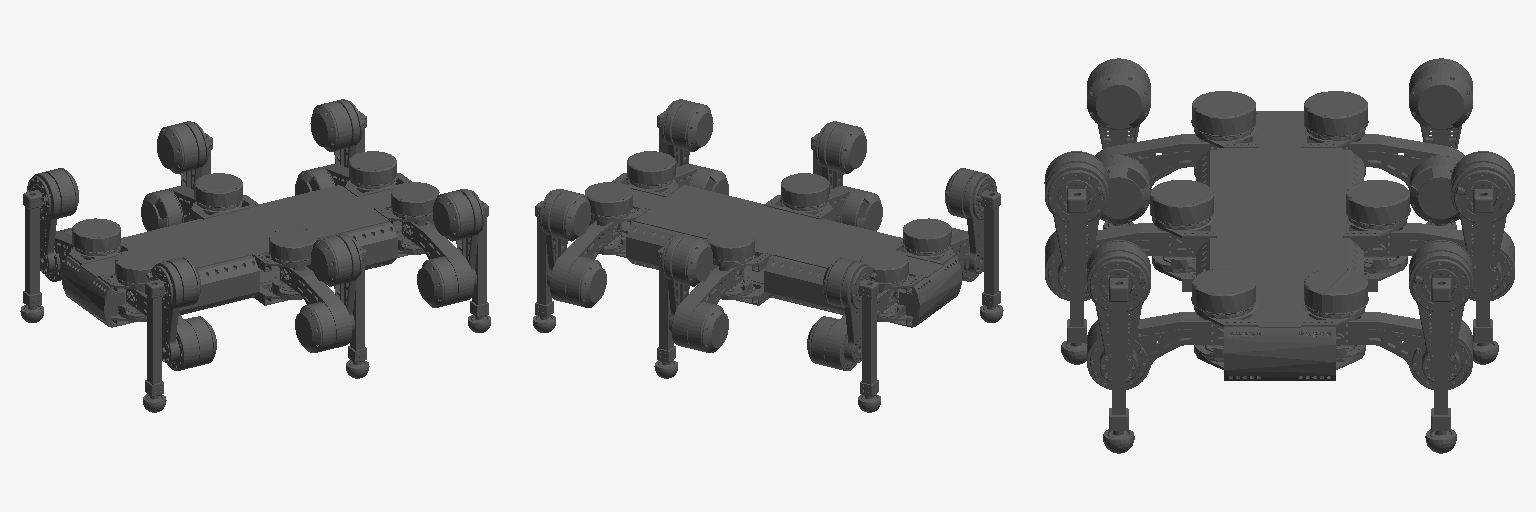
--- Render facts (derived) ---
The picture shows the robot from 3 angles, left to right: view 1: azimuth 30°, elevation 25°; view 2: azimuth 150°, elevation 25°; view 3: azimuth 270°, elevation 25°; orthographic projection.
Model elspider_air with 26 links and 25 joints (18 revolute, 7 fixed), rooted at base, posed all joints at 0.
Links seen in each view (by area): view 1: trunk, RM_HIP, RF_HIP, RF_THIGH, RM_THIGH, RB_THIGH, LB_THIGH, LM_THIGH, LF_THIGH, RB_HIP, RB_SHANK, LB_SHANK (+5 smaller); view 2: trunk, LM_HIP, LF_HIP, LF_THIGH, LM_THIGH, LB_THIGH, RB_THIGH, RM_THIGH, RF_THIGH, LB_HIP, LB_SHANK, RB_SHANK (+5 smaller); view 3: trunk, RB_HIP, LB_HIP, LB_THIGH, RB_THIGH, RF_HIP, LF_HIP, RF_THIGH, LF_THIGH, RM_THIGH, LM_THIGH, LM_SHANK (+5 smaller).
Link boxes in pixels (x1,y1,x2,y2): trunk: [62, 151, 439, 327]; RM_HIP: [280, 266, 351, 352]; RF_HIP: [402, 221, 473, 307]; RF_THIGH: [433, 189, 484, 287]; RM_THIGH: [311, 234, 362, 332]; RB_THIGH: [146, 257, 200, 362]; LB_THIGH: [27, 168, 78, 273]; LM_THIGH: [157, 121, 211, 189]; LF_THIGH: [310, 99, 365, 167]; RB_HIP: [126, 289, 216, 370]; RB_SHANK: [145, 273, 167, 401]; LB_SHANK: [23, 184, 45, 311]; trunk: [585, 151, 962, 327]; LM_HIP: [672, 266, 743, 352]; LF_HIP: [550, 221, 621, 307]; LF_THIGH: [539, 189, 590, 287]; LM_THIGH: [661, 234, 712, 332]; LB_THIGH: [823, 257, 877, 363]; RB_THIGH: [945, 168, 996, 273]; RM_THIGH: [812, 121, 866, 189]; RF_THIGH: [658, 99, 713, 167]; LB_HIP: [807, 289, 897, 370]; LB_SHANK: [856, 273, 878, 401]; RB_SHANK: [978, 184, 1000, 311]; trunk: [1150, 91, 1410, 380]; RB_HIP: [1095, 134, 1242, 223]; LB_HIP: [1317, 134, 1464, 223]; LB_THIGH: [1409, 58, 1472, 148]; RB_THIGH: [1087, 58, 1150, 148]; RF_HIP: [1087, 312, 1223, 389]; LF_HIP: [1336, 312, 1472, 389]; RF_THIGH: [1087, 240, 1150, 382]; LF_THIGH: [1409, 240, 1472, 382]; RM_THIGH: [1044, 151, 1108, 293]; LM_THIGH: [1451, 151, 1515, 293]; LM_SHANK: [1463, 180, 1502, 349].
Bounding box of the posed robot: 0.7539 × 0.6722 × 0.3006 m (x, y, z).
Meshes: 25 distinct files referenced, 25 mesh visuals loaded (25 binary STL).

URDF robot description (elspider_air):
<?xml version="1.0" ?>
<!-- =================================================================================== -->
<!-- |    This document was autogenerated by xacro from robot.xacro                    | -->
<!-- |    EDITING THIS FILE BY HAND IS NOT RECOMMENDED                                 | -->
<!-- =================================================================================== -->
<robot name="elspider_air">
  <!-- root link can not have interia, so add this link and joint -->
  <link name="base">
    <collision>
      <origin rpy="0 0 0" xyz="0 0 0.02"/>
      <geometry>
        <box size="0.76 0.28 0.13"/>
      </geometry>
    </collision>
  </link>
  <joint name="floating_base" type="fixed">
    <origin rpy="0 0 0" xyz="0 0 0"/>
    <parent link="base"/>
    <child link="trunk"/>
  </joint>
  <link name="trunk">
    <inertial>
      <origin rpy="0 0 0" xyz="0.00000732 0.00000000 0.02428745"/>
      <mass value="15.8991"/>
      <inertia ixx="0.0926086" ixy="-1.892e-05" ixz="1.58e-06" iyy="0.47054913" iyz="0.0" izz="0.53896766"/>
    </inertial>
    <visual>
      <origin rpy="0 0 0" xyz="0 0 0"/>
      <geometry>
        <mesh filename="../meshes/BASE.STL"/>
      </geometry>
      <material name="default_material">
        <color rgba="0.4 0.4 0.4 1"/>
      </material>
    </visual>

  </link>


  <link name="RF_HIP">
    <inertial>
      <origin xyz="-0.01146909 -0.12306389 -0.03643601" rpy="0 0 0" />
      <mass value="1.20924153"/>
      <inertia ixx="0.00506259" ixy="-0.00037922" ixz="-0.00012353" iyy="0.00134204" iyz="-0.00101741" izz="0.00448477"/>
    </inertial>
    <visual>
      <origin xyz="0 0 0" rpy="0 0 0" />
      <geometry>
        <mesh filename="../meshes/RF_HIP.STL"/>
      </geometry>
      <material name="default_material">
        <color rgba="0.4 0.4 0.4 1"/>
      </material>
    </visual>
    <collision>
      <origin rpy="0.35 0 0" xyz="0 -0.075 -0.010"/>
      <geometry>
        <box size="0.08 0.20 0.08"/>
      </geometry>
    </collision>
  </link>
  <!-- right mirror == 1, left mirror == -1 -->
  <joint name="RF_HAA" type="revolute">
    <origin rpy="0 -0 0" xyz="0.3 -0.08 0.011"/>
    <parent link="base"/>
    <child link="RF_HIP"/>
    <axis xyz="0 0 1"/>
    <dynamics damping="0" friction="0"/>
    <limit lower="-0.785" upper="0.785" effort="33.5" velocity="21"/>
  </joint>

  <link name="RF_THIGH">
    <inertial>
      <!-- y approximately euqal to 0 -->
      <origin rpy="0 0 0" xyz="0.11424797 -0.00005753  -0.01976803"/>
      <mass value="0.92523512"/>
      <inertia ixx="0.0006569" ixy="1.48e-06" ixz="0.0001226" iyy="0.00209449" iyz="1.58e-06" izz="0.00237655"/>
    </inertial>
    <visual>
      <origin rpy="0 0 0" xyz="0 0 0"/>
      <geometry>
        <mesh filename="../meshes/RF_THIGH.STL"/>
      </geometry>
      <material name="default_material">
        <color rgba="0.4 0.4 0.4 1"/>
      </material>
    </visual>
    <collision>
      <origin rpy="0 0 0" xyz="0.065 0.00 -0.05"/>
      <geometry>
        <box size="0.20 0.08 0.1"/>
      </geometry>
    </collision>
  </link>
  <joint name="RF_HFE" type="revolute">
    <origin xyz="0.0355 -0.14999 -0.045056" rpy="3.1416 -1.5708 0" />
    <parent link="RF_HIP"/>
    <child link="RF_THIGH"/>
    <axis xyz="0 0 1"/>
    <dynamics damping="0" friction="0"/>
    <limit lower="-0.5233" upper="3.14" effort="33.5" velocity="21"/>
  </joint>
  <link name="RF_SHANK">
    <inertial>
      <origin xyz="0.0 -0.07024046 -0.00923673" rpy="0 0 0" />
      <mass value="0.28148664"/>
      <!-- no mirror in ixy, ixz? -->
      <inertia ixx="0.00256638" ixy="0.0" ixz="0.0" iyy="9.216e-05" iyz="-0.00017328" izz="0.00258818"/>
    </inertial>
    <visual>
      <origin rpy="0 0 0" xyz="0 0 0"/>
      <geometry>
        <mesh filename="../meshes/RF_SHANK.STL"/>
      </geometry>
      <material name="default_material">
        <color rgba="0.4 0.4 0.4 1"/>
      </material>
    </visual>
    <collision>
      <origin rpy="0 0 0" xyz="0 -0.116 -0.018"/>
      <geometry>
        <box size="0.04 0.232 0.04"/>
      </geometry>
    </collision>
  </link>

  <joint name="RF_KFE" type="revolute">
    <!--TODO here in r maybe exist problem -->
    <origin xyz="0.13 0 0" rpy="3.1416 0 1.5708" />
    <parent link="RF_THIGH"/>
    <child link="RF_SHANK"/>
    <axis xyz="0 0 1"/>
    <dynamics damping="0" friction="0"/>
    <limit lower="-0.6978" upper="3.925" effort="33.5" velocity="21"/>
  </joint>

  <link name="RF_FOOT">
    <inertial>
      <!-- xyz approximately euqal to 0 -->
      <origin xyz="0.00000000 -0.0070918 0.00000000" rpy="0 0 0" />
      <mass value="0.01901289"/>
      <inertia ixx="3.96e-06" ixy="0.0" ixz="0.0" iyy="5.73e-06" iyz="0.0" izz="3.96e-06"/>
    </inertial>
    <visual>
      <origin rpy="0 0 0" xyz="0 0 0"/>
      <geometry>
        <mesh filename="../meshes/RF_FOOT.STL"/>
      </geometry>
      <material name="default_material">
        <color rgba="0.4 0.4 0.4 1"/>
      </material>
    </visual>
    <collision>
      <!-- avoid multiple points of contact with the ground -->
      <origin xyz="0 0 0" rpy="0 0 0"/>
      <geometry>
        <sphere radius="0.025"/>
      </geometry>
      <!-- <origin xyz="0 0 0" rpy="0 0 0" />
                <geometry>
                    <mesh filename="../meshes/${name}_FOOT.STL" />
                </geometry> -->
    </collision>
  </link>
  <joint name="RF_FIX" type="fixed" dont_collapse="true">
    <origin rpy="0 0 0" xyz="0 -0.232 -0.018"/>
    <parent link="RF_SHANK"/>
    <child link="RF_FOOT"/>
    <axis xyz="0 0 0"/>
  </joint>
  <transmission name="RF_HAA_tran">
    <type>transmission_interface/SimpleTransmission</type>
    <joint name="RF_HAA">
      <hardwareInterface>hardware_interface/EffortJointInterface</hardwareInterface>
    </joint>
    <actuator name="RF_HAA_motor">
      <hardwareInterface>hardware_interface/EffortJointInterface</hardwareInterface>
      <mechanicalReduction>1</mechanicalReduction>
    </actuator>
  </transmission>
  <transmission name="RF_HFE_tran">
    <type>transmission_interface/SimpleTransmission</type>
    <joint name="RF_HFE">
      <hardwareInterface>hardware_interface/EffortJointInterface</hardwareInterface>
    </joint>
    <actuator name="RF_HFE_motor">
      <hardwareInterface>hardware_interface/EffortJointInterface</hardwareInterface>
      <mechanicalReduction>1</mechanicalReduction>
    </actuator>
  </transmission>
  <transmission name="RF_KFE_tran">
    <type>transmission_interface/SimpleTransmission</type>
    <joint name="RF_KFE">
      <hardwareInterface>hardware_interface/EffortJointInterface</hardwareInterface>
    </joint>
    <actuator name="RF_KFE_motor">
      <hardwareInterface>hardware_interface/EffortJointInterface</hardwareInterface>
      <mechanicalReduction>1</mechanicalReduction>
    </actuator>
  </transmission>
  <!-- foot contacts -->
  <gazebo reference="RF_SHANK">
    <sensor name="RF_foot_contact" type="contact">
      <alwaysOn>true</alwaysOn>
      <update_rate>100</update_rate>
      <plugin filename="libunitreeFootContactPlugin.so" name="contactPlugin"/>
      <contact>
        <collision>RF_SHANK_fixed_joint_lump__RF_FOOT_collision_1</collision>
      </contact>
    </sensor>
  </gazebo>
  <!-- visualization of Foot contacts. -->
  <gazebo reference="RF_FOOT">
    <visual>
      <plugin filename="libunitreeDrawForcePlugin.so" name="drawForcePlugin">
        <topicName>RF_foot_contact</topicName>
      </plugin>
    </visual>
  </gazebo>
  <!-- set friction -->
  <gazebo reference="RF_HIP">
    <mu1>0.2</mu1>
    <mu2>0.2</mu2>
    <self_collide>1</self_collide>
  </gazebo>
  <gazebo reference="RF_THIGH">
    <mu1>0.2</mu1>
    <mu2>0.2</mu2>
    <self_collide>1</self_collide>
  </gazebo>
  <gazebo reference="RF_SHANK">
    <mu1>0.2</mu1>
    <mu2>0.2</mu2>
    <self_collide>1</self_collide>
  </gazebo>
  <gazebo reference="RF_FOOT">
    <mu1>0.6</mu1>
    <mu2>0.6</mu2>
    <self_collide>1</self_collide>
    <!-- soft foot -->
    <!-- <kp value="1000000.0"/>
            <kd value="1.0"/> -->
    <kp value="20.0"/>
    <kd value="10.0"/>
  </gazebo>
  <!-- right mirror == 1, left mirror == -1 -->

  <link name="RM_HIP">
    <inertial>
      <origin xyz="-0.01146909 -0.12306389 -0.03643601" rpy="0 0 0" />
      <mass value="1.20924153"/>
      <inertia ixx="0.00506259" ixy="-0.00037922" ixz="-0.00012353" iyy="0.00134204" iyz="-0.00101741" izz="0.00448477"/>
    </inertial>
    <visual>
      <origin rpy="0 0 0" xyz="0 0 0"/>
      <geometry>
        <mesh filename="../meshes/RM_HIP.STL"/>
      </geometry>
      <material name="default_material">
        <color rgba="0.4 0.4 0.4 1"/>
      </material>
    </visual>
    <collision>
      <origin rpy="0.35 0 0" xyz="0 -0.075 -0.010"/>
      <geometry>
        <box size="0.08 0.20 0.08"/>
      </geometry>
    </collision>
  </link>

  <joint name="RM_HAA" type="revolute">
    <origin rpy="0 -0 0" xyz="0 -0.14 0.011"/>
    <parent link="base"/>
    <child link="RM_HIP"/>
    <axis xyz="0 0 1"/>
    <dynamics damping="0" friction="0"/>
    <limit lower="-0.785" upper="0.785" effort="33.5" velocity="21"/>
  </joint>

  <link name="RM_THIGH">
    <inertial>
      <!-- y approximately euqal to 0 -->
      <origin xyz="0.11424797 -0.00005753  -0.01976803" rpy="0 0 0" />
      <mass value="0.92523512"/>
      <inertia ixx="0.0006569" ixy="1.48e-06" ixz="0.0001226" iyy="0.00209449" iyz="1.58e-06" izz="0.00237655"/>
    </inertial>
    <visual>
      <origin rpy="0 0 0" xyz="0 0 0"/>
      <geometry>
        <mesh filename="../meshes/RM_THIGH.STL"/>
      </geometry>
      <material name="default_material">
        <color rgba="0.4 0.4 0.4 1"/>
      </material>
    </visual>
    <collision>
      <origin xyz="0.065 0.00 -0.05" rpy="0 0 0" />
      <geometry>
        <box size="0.20 0.08 0.1"/>
      </geometry>
    </collision>
  </link>
  <joint name="RM_HFE" type="revolute">
    <origin xyz="0.0355 -0.14999 -0.045056" rpy="3.1416 -1.5708 0" />

    <parent link="RM_HIP"/>
    <child link="RM_THIGH"/>
    <axis xyz="0 0 1"/>
    <dynamics damping="0" friction="0"/>
    <limit lower="-0.5233" upper="3.14" effort="33.5" velocity="21"/>
  </joint>

  <link name="RM_SHANK">
    <inertial>
      <origin xyz="0.0 -0.07024046 -0.00923673" rpy="0 0 0" />
      <mass value="0.28148664"/>
      <!-- no mirror in ixy, ixz? -->
      <inertia ixx="0.00256638" ixy="0.0" ixz="0.0" iyy="9.216e-05" iyz="-0.00017328" izz="0.00258818"/>
    </inertial>
    <visual>
      <origin rpy="0 0 0" xyz="0 0 0"/>
      <geometry>
        <mesh filename="../meshes/RM_SHANK.STL"/>
      </geometry>
      <material name="default_material">
        <color rgba="0.4 0.4 0.4 1"/>
      </material>
    </visual>
    <collision>
      <origin xyz="0 -0.116 -0.018" rpy="0 0 0"/>
      <geometry>
        <box size="0.04 0.232 0.04"/>
      </geometry>
    </collision>
  </link>

  <joint name="RM_KFE" type="revolute">
    <!--TODO here in r maybe exist problem -->
    <origin xyz="0.13 0 0" rpy="3.1416 0 1.5708"/>
    <parent link="RM_THIGH"/>
    <child link="RM_SHANK"/>
    <axis xyz="0 0 1"/>
    <dynamics damping="0" friction="0"/>
    <limit lower="-0.6978" upper="3.925" effort="33.5" velocity="21"/>
  </joint>

  <link name="RM_FOOT">
    <inertial>
      <!-- xyz approximately euqal to 0 -->
      <origin xyz="0.00000000 -0.0070918 0.00000000" rpy="0 0 0"/>
      <mass value="0.01901289"/>
      <inertia ixx="3.96e-06" ixy="0.0" ixz="0.0" iyy="5.73e-06" iyz="0.0" izz="3.96e-06"/>
    </inertial>
    <visual>
      <origin xyz="0 0 0" rpy="0 0 0" />
      <geometry>
        <mesh filename="../meshes/RM_FOOT.STL"/>
      </geometry>
      <material name="default_material">
        <color rgba="0.4 0.4 0.4 1"/>
      </material>
    </visual>
    <collision>
      <!-- avoid multiple points of contact with the ground -->
      <origin rpy="0 0 0" xyz="0 0 0"/>
      <geometry>
        <sphere radius="0.025"/>
      </geometry>
      <!-- <origin xyz="0 0 0" rpy="0 0 0" />
                <geometry>
                    <mesh filename="../meshes/${name}_FOOT.STL" />
                </geometry> -->
    </collision>
  </link>

  <joint name="RM_FIX" type="fixed" dont_collapse="true">
    <origin xyz="0 -0.232 -0.018" rpy="0 0 0" />
    <parent link="RM_SHANK"/>
    <child link="RM_FOOT"/>
    <axis xyz="0 0 0"/>
  </joint>
  <transmission name="RM_HAA_tran">
    <type>transmission_interface/SimpleTransmission</type>
    <joint name="RM_HAA">
      <hardwareInterface>hardware_interface/EffortJointInterface</hardwareInterface>
    </joint>
    <actuator name="RM_HAA_motor">
      <hardwareInterface>hardware_interface/EffortJointInterface</hardwareInterface>
      <mechanicalReduction>1</mechanicalReduction>
    </actuator>
  </transmission>
  <transmission name="RM_HFE_tran">
    <type>transmission_interface/SimpleTransmission</type>
    <joint name="RM_HFE">
      <hardwareInterface>hardware_interface/EffortJointInterface</hardwareInterface>
    </joint>
    <actuator name="RM_HFE_motor">
      <hardwareInterface>hardware_interface/EffortJointInterface</hardwareInterface>
      <mechanicalReduction>1</mechanicalReduction>
    </actuator>
  </transmission>
  <transmission name="RM_KFE_tran">
    <type>transmission_interface/SimpleTransmission</type>
    <joint name="RM_KFE">
      <hardwareInterface>hardware_interface/EffortJointInterface</hardwareInterface>
    </joint>
    <actuator name="RM_KFE_motor">
      <hardwareInterface>hardware_interface/EffortJointInterface</hardwareInterface>
      <mechanicalReduction>1</mechanicalReduction>
    </actuator>
  </transmission>
  <!-- foot contacts -->
  <gazebo reference="RM_SHANK">
    <sensor name="RM_foot_contact" type="contact">
      <alwaysOn>true</alwaysOn>
      <update_rate>100</update_rate>
      <plugin filename="libunitreeFootContactPlugin.so" name="contactPlugin"/>
      <contact>
        <collision>RM_SHANK_fixed_joint_lump__RM_FOOT_collision_1</collision>
      </contact>
    </sensor>
  </gazebo>
  <!-- visualization of Foot contacts. -->
  <gazebo reference="RM_FOOT">
    <visual>
      <plugin filename="libunitreeDrawForcePlugin.so" name="drawForcePlugin">
        <topicName>RM_foot_contact</topicName>
      </plugin>
    </visual>
  </gazebo>
  <!-- set friction -->
  <gazebo reference="RM_HIP">
    <mu1>0.2</mu1>
    <mu2>0.2</mu2>
    <self_collide>1</self_collide>
  </gazebo>
  <gazebo reference="RM_THIGH">
    <mu1>0.2</mu1>
    <mu2>0.2</mu2>
    <self_collide>1</self_collide>
  </gazebo>
  <gazebo reference="RM_SHANK">
    <mu1>0.2</mu1>
    <mu2>0.2</mu2>
    <self_collide>1</self_collide>
  </gazebo>
  <gazebo reference="RM_FOOT">
    <mu1>0.6</mu1>
    <mu2>0.6</mu2>
    <self_collide>1</self_collide>
    <!-- soft foot -->
    <!-- <kp value="1000000.0"/>
            <kd value="1.0"/> -->
    <kp value="20.0"/>
    <kd value="10.0"/>
  </gazebo>
  <!-- right mirror == 1, left mirror == -1 -->

  <link name="RB_HIP">
    <inertial>
      <origin xyz="0.01146909 -0.12306389 -0.03643601" rpy="0 0 0" />
      <mass value="1.20924153"/>
      <inertia ixx="0.00506259" ixy="0.00037922" ixz="0.00012353" iyy="0.00134204" iyz="-0.00101741" izz="0.00448477"/>
    </inertial>
    <visual>
      <origin xyz="0 0 0" rpy="0 0 0"/>
      <geometry>
        <mesh filename="../meshes/RB_HIP.STL"/>
      </geometry>
      <material name="default_material">
        <color rgba="0.4 0.4 0.4 1"/>
      </material>
    </visual>
    <collision>
      <origin rpy="0.35 0 0" xyz="0 -0.075 -0.010"/>
      <geometry>
        <box size="0.08 0.20 0.08"/>
      </geometry>
    </collision>
  </link>

  <joint name="RB_HAA" type="revolute">
    <origin xyz="-0.3 -0.08 0.011" rpy="0 -0 0" />
    <parent link="base"/>
    <child link="RB_HIP"/>
    <axis xyz="0 0 1"/>
    <dynamics damping="0" friction="0"/>
    <limit lower="-0.785" upper="0.785" effort="33.5" velocity="21"/>
  </joint>

  <link name="RB_THIGH">
    <inertial>
      <!-- y approximately euqal to 0 -->
      <origin xyz="0.11424797 -0.00005753  0.01976803" rpy="0 0 0" />
      <mass value="0.92523512"/>
      <inertia ixx="0.0006569" ixy="1.48e-06" ixz="-0.0001226" iyy="0.00209449" iyz="-1.58e-06" izz="0.00237655"/>
    </inertial>
    <visual>
      <origin rpy="0 0 0" xyz="0 0 0"/>
      <geometry>
        <mesh filename="../meshes/RB_THIGH.STL"/>
      </geometry>
      <material name="default_material">
        <color rgba="0.4 0.4 0.4 1"/>
      </material>
    </visual>
    <collision>
      <origin rpy="0 0 0" xyz="0.065 0.00 0.05"/>
      <geometry>
        <box size="0.20 0.08 0.1"/>
      </geometry>
    </collision>
  </link>
  <joint name="RB_HFE" type="revolute">
    <origin xyz="-0.0355 -0.14999 -0.045056" rpy="3.1416 -1.5708 0"/>
    <axis xyz="0 0 1"/>
    <parent link="RB_HIP"/>
    <child link="RB_THIGH"/>
    <dynamics damping="0" friction="0"/>
    <limit lower="-0.5233" upper="3.14" effort="33.5" velocity="21"/>
  </joint>

  <link name="RB_SHANK">
    <inertial>
      <origin rpy="0 0 0" xyz="0.0 -0.07024046 0.00923673"/>
      <mass value="0.28148664"/>
      <!-- no mirror in ixy, ixz? -->
      <inertia ixx="0.00256638" ixy="0.0" ixz="0.0" iyy="9.216e-05" iyz="0.00017328" izz="0.00258818"/>
    </inertial>
    <visual>
      <origin rpy="0 0 0" xyz="0 0 0"/>
      <geometry>
        <mesh filename="../meshes/RB_SHANK.STL"/>
      </geometry>
      <material name="default_material">
        <color rgba="0.4 0.4 0.4 1"/>
      </material>
    </visual>
    <collision>
      <origin rpy="0 0 0" xyz="0 -0.116 0.018"/>
      <geometry>
        <box size="0.04 0.232 0.04"/>
      </geometry>
    </collision>
  </link>

  <joint name="RB_KFE" type="revolute">
    <!--TODO here in r maybe exist problem -->
    <origin xyz="0.13 0 0" rpy="3.1416 0 1.5708" />
    <parent link="RB_THIGH"/>
    <child link="RB_SHANK"/>
    <axis xyz="0 0 1"/>
    <dynamics damping="0" friction="0"/>
    <limit lower="-0.6978" upper="3.925" effort="33.5" velocity="21"/>
  </joint>

  <link name="RB_FOOT">
    <inertial>
      <!-- xyz approximately euqal to 0 -->
      <origin xyz="0.00000000 -0.0070918 0.00000000" rpy="0 0 0" />
      <mass value="0.01901289"/>
      <inertia ixx="3.96e-06" ixy="0.0" ixz="0.0" iyy="5.73e-06" iyz="0.0" izz="3.96e-06"/>
    </inertial>
    <visual>
      <origin rpy="0 0 0" xyz="0 0 0"/>
      <geometry>
        <mesh filename="../meshes/RB_FOOT.STL"/>
      </geometry>
      <material name="default_material">
        <color rgba="0.4 0.4 0.4 1"/>
      </material>
    </visual>
    <collision>
      <!-- avoid multiple points of contact with the ground -->
      <origin rpy="0 0 0" xyz="0 0 0"/>
      <geometry>
        <sphere radius="0.025"/>
      </geometry>
      <!-- <origin xyz="0 0 0" rpy="0 0 0" />
                <geometry>
                    <mesh filename="../meshes/${name}_FOOT.STL" />
                </geometry> -->
    </collision>
  </link>

  <joint name="RB_FIX" type="fixed" dont_collapse="true">
    <origin xyz="0 -0.232 0.018" rpy="0 0 0" />
    <parent link="RB_SHANK"/>
    <child link="RB_FOOT"/>
    <axis xyz="0 0 0"/>
  </joint>
  <transmission name="RB_HAA_tran">
    <type>transmission_interface/SimpleTransmission</type>
    <joint name="RB_HAA">
      <hardwareInterface>hardware_interface/EffortJointInterface</hardwareInterface>
    </joint>
    <actuator name="RB_HAA_motor">
      <hardwareInterface>hardware_interface/EffortJointInterface</hardwareInterface>
      <mechanicalReduction>1</mechanicalReduction>
    </actuator>
  </transmission>
  <transmission name="RB_HFE_tran">
    <type>transmission_interface/SimpleTransmission</type>
    <joint name="RB_HFE">
      <hardwareInterface>hardware_interface/EffortJointInterface</hardwareInterface>
    </joint>
    <actuator name="RB_HFE_motor">
      <hardwareInterface>hardware_interface/EffortJointInterface</hardwareInterface>
      <mechanicalReduction>1</mechanicalReduction>
    </actuator>
  </transmission>
  <transmission name="RB_KFE_tran">
    <type>transmission_interface/SimpleTransmission</type>
    <joint name="RB_KFE">
      <hardwareInterface>hardware_interface/EffortJointInterface</hardwareInterface>
    </joint>
    <actuator name="RB_KFE_motor">
      <hardwareInterface>hardware_interface/EffortJointInterface</hardwareInterface>
      <mechanicalReduction>1</mechanicalReduction>
    </actuator>
  </transmission>
  <!-- foot contacts -->
  <gazebo reference="RB_SHANK">
    <sensor name="RB_foot_contact" type="contact">
      <alwaysOn>true</alwaysOn>
      <update_rate>100</update_rate>
      <plugin filename="libunitreeFootContactPlugin.so" name="contactPlugin"/>
      <contact>
        <collision>RB_SHANK_fixed_joint_lump__RB_FOOT_collision_1</collision>
      </contact>
    </sensor>
  </gazebo>
  <!-- visualization of Foot contacts. -->
  <gazebo reference="RB_FOOT">
    <visual>
      <plugin filename="libunitreeDrawForcePlugin.so" name="drawForcePlugin">
        <topicName>RB_foot_contact</topicName>
      </plugin>
    </visual>
  </gazebo>
  <!-- set friction -->
  <gazebo reference="RB_HIP">
    <mu1>0.2</mu1>
    <mu2>0.2</mu2>
    <self_collide>1</self_collide>
  </gazebo>
  <gazebo reference="RB_THIGH">
    <mu1>0.2</mu1>
    <mu2>0.2</mu2>
    <self_collide>1</self_collide>
  </gazebo>
  <gazebo reference="RB_SHANK">
    <mu1>0.2</mu1>
    <mu2>0.2</mu2>
    <self_collide>1</self_collide>
  </gazebo>
  <gazebo reference="RB_FOOT">
    <mu1>0.6</mu1>
    <mu2>0.6</mu2>
    <self_collide>1</self_collide>
    <!-- soft foot -->
    <!-- <kp value="1000000.0"/>
            <kd value="1.0"/> -->
    <kp value="20.0"/>
    <kd value="10.0"/>
  </gazebo>

  <link name="LF_HIP">
    <inertial>
      <origin xyz="-0.01146909 -0.12306389 0.03643601" rpy="0 0 0" />
      <mass value="1.20924153"/>
      <inertia ixx="0.00506259" ixy="-0.00037922" ixz="0.00012353" iyy="0.00134204" iyz="0.00101741" izz="0.00448477"/>
    </inertial>
    <visual>
      <origin rpy="0 0 0" xyz="0 0 0"/>
      <geometry>
        <mesh filename="../meshes/LF_HIP.STL"/>
      </geometry>
      <material name="default_material">
        <color rgba="0.4 0.4 0.4 1"/>
      </material>
    </visual>
    <collision>
      <origin rpy="-0.35 0 0" xyz="0 -0.075 0.010"/>
      <geometry>
        <box size="0.08 0.20 0.08"/>
      </geometry>
    </collision>
  </link>

  <!-- right mirror == 1, left mirror == -1 -->
  <joint name="LF_HAA" type="revolute">
    <origin xyz="0.3 0.08 0.011" rpy="-3.1416 0 0"/>
    <parent link="base"/>
    <child link="LF_HIP"/>
    <axis xyz="0 0 1"/>
    <dynamics damping="0" friction="0"/>
    <limit lower="-0.785" upper="0.785" effort="33.5" velocity="21"/>
  </joint>

  <link name="LF_THIGH">
    <inertial>
      <!-- y approximately euqal to 0 -->
      <origin xyz="0.11424797 -0.00005753  0.01976803" rpy="0 0 0"/>
      <mass value="0.92523512"/>
      <inertia ixx="0.0006569" ixy="1.48e-06" ixz="-0.0001226" iyy="0.00209449" iyz="-1.58e-06" izz="0.00237655"/>
    </inertial>
    <visual>
      <origin rpy="0 0 0" xyz="0 0 0"/>
      <geometry>
        <mesh filename="../meshes/LF_THIGH.STL"/>
      </geometry>
      <material name="default_material">
        <color rgba="0.4 0.4 0.4 1"/>
      </material>
    </visual>
    <collision>
      <origin rpy="0 0 0" xyz="0.065 0.00 0.05"/>
      <geometry>
        <box size="0.20 0.08 0.1"/>
      </geometry>
    </collision>
  </link>

  <joint name="LF_HFE" type="revolute">
    <origin xyz="0.0355 -0.14999 0.045056" rpy="3.1416 1.5708 0" />
    <axis xyz="0 0 1"/>
    <parent link="LF_HIP"/>
    <child link="LF_THIGH"/>
    <dynamics damping="0" friction="0"/>
    <limit lower="-0.5233" upper="3.14" effort="33.5" velocity="21"/>
  </joint>
  <link name="LF_SHANK">
    <inertial>
      <origin xyz="-0.0 -0.07024046 0.00923673" rpy="0 0 0" />
      <mass value="0.28148664"/>
      <!-- no mirror in ixy, ixz? -->
      <inertia ixx="0.00256638" ixy="0.0" ixz="0.0" iyy="9.216e-05" iyz="0.00017328" izz="0.00258818"/>
    </inertial>
    <visual>
      <origin rpy="0 0 0" xyz="0 0 0"/>
      <geometry>
        <mesh filename="../meshes/LF_SHANK.STL"/>
      </geometry>
      <material name="default_material">
        <color rgba="0.4 0.4 0.4 1"/>
      </material>
    </visual>
    <collision>
      <origin rpy="0 0 0" xyz="0 -0.116 0.018"/>
      <geometry>
        <box size="0.04 0.232 0.04"/>
      </geometry>
    </collision>
  </link>

  <joint name="LF_KFE" type="revolute">
    <!--TODO here in r maybe exist problem -->
    <origin xyz="0.13 0 0" rpy="-3.1416 0 1.5708"/>
    <parent link="LF_THIGH"/>
    <child link="LF_SHANK"/>
    <axis xyz="0 0 1"/>
    <dynamics damping="0" friction="0"/>
    <limit effort="33.5" lower="-0.6978" upper="3.925" velocity="21"/>
  </joint>


  <link name="LF_FOOT">
    <inertial>
      <!-- xyz approximately euqal to 0 -->
      <origin rpy="0 0 0" xyz="0.00000000 -0.0070918 0.00000000"/>
      <mass value="0.01901289"/>
      <inertia ixx="3.96e-06" ixy="-0.0" ixz="0.0" iyy="5.73e-06" iyz="-0.0" izz="3.96e-06"/>
    </inertial>
    <visual>
      <origin rpy="0 0 0" xyz="0 0 0"/>
      <geometry>
        <mesh filename="../meshes/LF_FOOT.STL"/>
      </geometry>
      <material name="default_material">
        <color rgba="0.4 0.4 0.4 1"/>
      </material>
    </visual>
    <collision>
      <!-- avoid multiple points of contact with the ground -->
      <origin rpy="0 0 0" xyz="0 0 0"/>
      <geometry>
        <sphere radius="0.025"/>
      </geometry>
      <!-- <origin xyz="0 0 0" rpy="0 0 0" />
                <geometry>
                    <mesh filename="../meshes/${name}_FOOT.STL" />
                </geometry> -->
    </collision>
  </link>

  <joint dont_collapse="true" name="LF_FIX" type="fixed">
    <origin rpy="-3.14159265358979 0 -3.14159265358979" xyz="0 -0.232 0.018"/>
    <parent link="LF_SHANK"/>
    <child link="LF_FOOT"/>
    <axis xyz="0 0 0"/>
  </joint>

  <transmission name="LF_HAA_tran">
    <type>transmission_interface/SimpleTransmission</type>
    <joint name="LF_HAA">
      <hardwareInterface>hardware_interface/EffortJointInterface</hardwareInterface>
    </joint>
    <actuator name="LF_HAA_motor">
      <hardwareInterface>hardware_interface/EffortJointInterface</hardwareInterface>
      <mechanicalReduction>1</mechanicalReduction>
    </actuator>
  </transmission>
  <transmission name="LF_HFE_tran">
    <type>transmission_interface/SimpleTransmission</type>
    <joint name="LF_HFE">
      <hardwareInterface>hardware_interface/EffortJointInterface</hardwareInterface>
    </joint>
    <actuator name="LF_HFE_motor">
      <hardwareInterface>hardware_interface/EffortJointInterface</hardwareInterface>
      <mechanicalReduction>1</mechanicalReduction>
    </actuator>
  </transmission>
  <transmission name="LF_KFE_tran">
    <type>transmission_interface/SimpleTransmission</type>
    <joint name="LF_KFE">
      <hardwareInterface>hardware_interface/EffortJointInterface</hardwareInterface>
    </joint>
    <actuator name="LF_KFE_motor">
      <hardwareInterface>hardware_interface/EffortJointInterface</hardwareInterface>
      <mechanicalReduction>1</mechanicalReduction>
    </actuator>
  </transmission>
  <!-- foot contacts -->
  <gazebo reference="LF_SHANK">
    <sensor name="LF_foot_contact" type="contact">
      <alwaysOn>true</alwaysOn>
      <update_rate>100</update_rate>
      <plugin filename="libunitreeFootContactPlugin.so" name="contactPlugin"/>
      <contact>
        <collision>LF_SHANK_fixed_joint_lump__LF_FOOT_collision_1</collision>
      </contact>
    </sensor>
  </gazebo>
  <!-- visualization of Foot contacts. -->
  <gazebo reference="LF_FOOT">
    <visual>
      <plugin filename="libunitreeDrawForcePlugin.so" name="drawForcePlugin">
        <topicName>LF_foot_contact</topicName>
      </plugin>
    </visual>
  </gazebo>
  <!-- set friction -->
  <gazebo reference="LF_HIP">
    <mu1>0.2</mu1>
    <mu2>0.2</mu2>
    <self_collide>1</self_collide>
  </gazebo>
  <gazebo reference="LF_THIGH">
    <mu1>0.2</mu1>
    <mu2>0.2</mu2>
    <self_collide>1</self_collide>
  </gazebo>
  <gazebo reference="LF_SHANK">
    <mu1>0.2</mu1>
    <mu2>0.2</mu2>
    <self_collide>1</self_collide>
  </gazebo>
  <gazebo reference="LF_FOOT">
    <mu1>0.6</mu1>
    <mu2>0.6</mu2>
    <self_collide>1</self_collide>
    <!-- soft foot -->
    <!-- <kp value="1000000.0"/>
            <kd value="1.0"/> -->
    <kp value="20.0"/>
    <kd value="10.0"/>
  </gazebo>
  <!-- right mirror == 1, left mirror == -1 -->
  <joint name="LM_HAA" type="revolute">
    <origin rpy="-3.1416 0 0" xyz="0 0.14 0.011"/>
    <parent link="base"/>
    <child link="LM_HIP"/>
    <axis xyz="0 0 1"/>
    <dynamics damping="0" friction="0"/>
    <limit effort="33.5" lower="-0.785" upper="0.785" velocity="21"/>
  </joint>
  <link name="LM_HIP">
    <inertial>
      <origin rpy="0 0 0" xyz="-0.01146909 -0.12306389 0.03643601"/>
      <mass value="1.20924153"/>
      <inertia ixx="0.00506259" ixy="-0.00037922" ixz="0.00012353" iyy="0.00134204" iyz="0.00101741" izz="0.00448477"/>
    </inertial>
    <visual>
      <origin rpy="0 0 0" xyz="0 0 0"/>
      <geometry>
        <mesh filename="../meshes/LM_HIP.STL"/>
      </geometry>
      <material name="default_material">
        <color rgba="0.4 0.4 0.4 1"/>
      </material>
    </visual>
    <collision>
      <origin rpy="-0.35 0 0" xyz="0 -0.075 0.010"/>
      <geometry>
        <box size="0.08 0.20 0.08"/>
      </geometry>
    </collision>
  </link>

  <link name="LM_THIGH">
    <inertial>
      <!-- y approximately euqal to 0 -->
      <origin rpy="0 0 0" xyz="0.11424797 -0.00005753  0.01976803"/>
      <mass value="0.92523512"/>
      <inertia ixx="0.0006569" ixy="1.48e-06" ixz="-0.0001226" iyy="0.00209449" iyz="-1.58e-06" izz="0.00237655"/>
    </inertial>
    <visual>
      <origin rpy="0 0 0" xyz="0 0 0"/>
      <geometry>
        <mesh filename="../meshes/LM_THIGH.STL"/>
      </geometry>
      <material name="default_material">
        <color rgba="0.4 0.4 0.4 1"/>
      </material>
    </visual>
    <collision>
      <origin rpy="0 0 0" xyz="0.065 0.00 0.05"/>
      <geometry>
        <box size="0.20 0.08 0.1"/>
      </geometry>
    </collision>
  </link>
  <joint name="LM_HFE" type="revolute">
    <origin xyz="0.0355 -0.14999 0.045056" rpy="3.1416 1.5708 0" />
    <axis xyz="0 0 1"/>
    <parent link="LM_HIP"/>
    <child link="LM_THIGH"/>
    <dynamics damping="0" friction="0"/>
    <limit effort="33.5" lower="-0.5233" upper="3.14" velocity="21"/>
  </joint>

  <link name="LM_SHANK">
    <inertial>
      <origin rpy="0 0 0" xyz="-0.0 -0.07024046 0.00923673"/>
      <mass value="0.28148664"/>
      <!-- no mirror in ixy, ixz? -->
      <inertia ixx="0.00256638" ixy="0.0" ixz="0.0" iyy="9.216e-05" iyz="0.00017328" izz="0.00258818"/>
    </inertial>
    <visual>
      <origin rpy="0 0 0" xyz="0 0 0"/>
      <geometry>
        <mesh filename="../meshes/LM_SHANK.STL"/>
      </geometry>
      <material name="default_material">
        <color rgba="0.4 0.4 0.4 1"/>
      </material>
    </visual>
    <collision>
      <origin rpy="0 0 0" xyz="0 -0.116 0.018"/>
      <geometry>
        <box size="0.04 0.232 0.04"/>
      </geometry>
    </collision>
  </link>

  <joint name="LM_KFE" type="revolute">
    <!--TODO here in r maybe exist problem -->
    <origin xyz="0.13 0 0" rpy="-3.1416 0 1.5708" />
    <parent link="LM_THIGH"/>
    <child link="LM_SHANK"/>
    <axis xyz="0 0 1"/>
    <dynamics damping="0" friction="0"/>
    <limit effort="33.5" lower="-0.6978" upper="3.925" velocity="21"/>
  </joint>

  <link name="LM_FOOT">
    <inertial>
      <!-- xyz approximately euqal to 0 -->
      <origin rpy="0 0 0" xyz="0.00000000 -0.0070918 0.00000000"/>
      <mass value="0.01901289"/>
      <inertia ixx="3.96e-06" ixy="-0.0" ixz="0.0" iyy="5.73e-06" iyz="-0.0" izz="3.96e-06"/>
    </inertial>
    <visual>
      <origin rpy="0 0 0" xyz="0 0 0"/>
      <geometry>
        <mesh filename="../meshes/LM_FOOT.STL"/>
      </geometry>
      <material name="default_material">
        <color rgba="0.4 0.4 0.4 1"/>
      </material>
    </visual>
    <collision>
      <!-- avoid multiple points of contact with the ground -->
      <origin rpy="0 0 0" xyz="0 0 0"/>
      <geometry>
        <sphere radius="0.025"/>
      </geometry>
      <!-- <origin xyz="0 0 0" rpy="0 0 0" />
                <geometry>
                    <mesh filename="../meshes/${name}_FOOT.STL" />
                </geometry> -->
    </collision>
  </link>
  <joint dont_collapse="true" name="LM_FIX" type="fixed">
    <origin rpy="3.14159265358979 0 3.14159265358979" xyz="0 -0.232 0.018"/>
    <parent link="LM_SHANK"/>
    <child link="LM_FOOT"/>
    <axis xyz="0 0 0"/>
  </joint>
  <transmission name="LM_HAA_tran">
    <type>transmission_interface/SimpleTransmission</type>
    <joint name="LM_HAA">
      <hardwareInterface>hardware_interface/EffortJointInterface</hardwareInterface>
    </joint>
    <actuator name="LM_HAA_motor">
      <hardwareInterface>hardware_interface/EffortJointInterface</hardwareInterface>
      <mechanicalReduction>1</mechanicalReduction>
    </actuator>
  </transmission>
  <transmission name="LM_HFE_tran">
    <type>transmission_interface/SimpleTransmission</type>
    <joint name="LM_HFE">
      <hardwareInterface>hardware_interface/EffortJointInterface</hardwareInterface>
    </joint>
    <actuator name="LM_HFE_motor">
      <hardwareInterface>hardware_interface/EffortJointInterface</hardwareInterface>
      <mechanicalReduction>1</mechanicalReduction>
    </actuator>
  </transmission>
  <transmission name="LM_KFE_tran">
    <type>transmission_interface/SimpleTransmission</type>
    <joint name="LM_KFE">
      <hardwareInterface>hardware_interface/EffortJointInterface</hardwareInterface>
    </joint>
    <actuator name="LM_KFE_motor">
      <hardwareInterface>hardware_interface/EffortJointInterface</hardwareInterface>
      <mechanicalReduction>1</mechanicalReduction>
    </actuator>
  </transmission>
  <!-- foot contacts -->
  <gazebo reference="LM_SHANK">
    <sensor name="LM_foot_contact" type="contact">
      <alwaysOn>true</alwaysOn>
      <update_rate>100</update_rate>
      <plugin filename="libunitreeFootContactPlugin.so" name="contactPlugin"/>
      <contact>
        <collision>LM_SHANK_fixed_joint_lump__LM_FOOT_collision_1</collision>
      </contact>
    </sensor>
  </gazebo>
  <!-- visualization of Foot contacts. -->
  <gazebo reference="LM_FOOT">
    <visual>
      <plugin filename="libunitreeDrawForcePlugin.so" name="drawForcePlugin">
        <topicName>LM_foot_contact</topicName>
      </plugin>
    </visual>
  </gazebo>
  <!-- set friction -->
  <gazebo reference="LM_HIP">
    <mu1>0.2</mu1>
    <mu2>0.2</mu2>
    <self_collide>1</self_collide>
  </gazebo>
  <gazebo reference="LM_THIGH">
    <mu1>0.2</mu1>
    <mu2>0.2</mu2>
    <self_collide>1</self_collide>
  </gazebo>
  <gazebo reference="LM_SHANK">
    <mu1>0.2</mu1>
    <mu2>0.2</mu2>
    <self_collide>1</self_collide>
  </gazebo>
  <gazebo reference="LM_FOOT">
    <mu1>0.6</mu1>
    <mu2>0.6</mu2>
    <self_collide>1</self_collide>
    <!-- soft foot -->
    <!-- <kp value="1000000.0"/>
            <kd value="1.0"/> -->
    <kp value="20.0"/>
    <kd value="10.0"/>
  </gazebo>
  <!-- right mirror == 1, left mirror == -1 -->

  <link name="LB_HIP">
    <inertial>
      <origin rpy="0 0 0" xyz="0.01146909 -0.12306389 0.03643601"/>
      <mass value="1.20924153"/>
      <inertia ixx="0.00506259" ixy="0.00037922" ixz="-0.00012353" iyy="0.00134204" iyz="0.00101741" izz="0.00448477"/>
    </inertial>
    <visual>
      <origin rpy="0 0 0" xyz="0 0 0"/>
      <geometry>
        <mesh filename="../meshes/LB_HIP.STL"/>
      </geometry>
      <material name="default_material">
        <color rgba="0.4 0.4 0.4 1"/>
      </material>
    </visual>
    <collision>
      <origin rpy="-0.35 0 0" xyz="0 -0.075 0.010"/>
      <geometry>
        <box size="0.08 0.20 0.08"/>
      </geometry>
    </collision>
  </link>
  <joint name="LB_HAA" type="revolute">
    <origin rpy="-3.1416 0 0" xyz="-0.3 0.08 0.011"/>
    <parent link="base"/>
    <child link="LB_HIP"/>
    <axis xyz="0 0 1"/>
    <dynamics damping="0" friction="0"/>
    <limit lower="-0.785" upper="0.785" effort="33.5" velocity="21"/>
  </joint>

  <link name="LB_THIGH">
    <inertial>
      <!-- y approximately euqal to 0 -->
      <origin rpy="0 0 0" xyz="0.11424797 -0.00005753  -0.01976803"/>
      <mass value="0.92523512"/>
      <inertia ixx="0.0006569" ixy="1.48e-06" ixz="0.0001226" iyy="0.00209449" iyz="1.58e-06" izz="0.00237655"/>
    </inertial>
    <visual>
      <origin rpy="0 0 0" xyz="0 0 0"/>
      <geometry>
        <mesh filename="../meshes/LB_THIGH.STL"/>
      </geometry>
      <material name="default_material">
        <color rgba="0.4 0.4 0.4 1"/>
      </material>
    </visual>
    <collision>
      <origin rpy="0 0 0" xyz="0.065 0.00 -0.05"/>
      <geometry>
        <box size="0.20 0.08 0.1"/>
      </geometry>
    </collision>
  </link>
  <joint name="LB_HFE" type="revolute">
    <origin xyz="-0.0355 -0.14999 0.045056" rpy="3.1416 1.5708 0" />
    <axis xyz="0 0 1"/>
    <parent link="LB_HIP"/>
    <child link="LB_THIGH"/>
    <dynamics damping="0" friction="0"/>
    <limit effort="33.5" lower="-0.5233" upper="3.14" velocity="21"/>
  </joint>

  <link name="LB_SHANK">
    <inertial>
      <origin rpy="0 0 0" xyz="-0.0 -0.07024046 -0.00923673"/>
      <mass value="0.28148664"/>
      <!-- no mirror in ixy, ixz? -->
      <inertia ixx="0.00256638" ixy="0.0" ixz="0.0" iyy="9.216e-05" iyz="-0.00017328" izz="0.00258818"/>
    </inertial>
    <visual>
      <origin rpy="0 0 0" xyz="0 0 0"/>
      <geometry>
        <mesh filename="../meshes/LB_SHANK.STL"/>
      </geometry>
      <material name="default_material">
        <color rgba="0.4 0.4 0.4 1"/>
      </material>
    </visual>
    <collision>
      <origin rpy="0 0 0" xyz="0 -0.116 -0.018"/>
      <geometry>
        <box size="0.04 0.232 0.04"/>
      </geometry>
    </collision>
  </link>

  <joint name="LB_KFE" type="revolute">
    <!--TODO here in r maybe exist problem -->
    <origin xyz="0.13 0 0" rpy="3.1416 0 1.5708"/>
    <parent link="LB_THIGH"/>
    <child link="LB_SHANK"/>
    <axis xyz="0 0 1"/>
    <dynamics damping="0" friction="0"/>
    <limit effort="33.5" lower="-0.6978" upper="3.925" velocity="21"/>
  </joint>

  <link name="LB_FOOT">
    <inertial>
      <!-- xyz approximately euqal to 0 -->
      <origin rpy="0 0 0" xyz="0.00000000 -0.0070918 0.00000000"/>
      <mass value="0.01901289"/>
      <inertia ixx="3.96e-06" ixy="-0.0" ixz="0.0" iyy="5.73e-06" iyz="-0.0" izz="3.96e-06"/>
    </inertial>
    <visual>
      <origin rpy="0 0 0" xyz="0 0 0"/>
      <geometry>
        <mesh filename="../meshes/LB_FOOT.STL"/>
      </geometry>
      <material name="default_material">
        <color rgba="0.4 0.4 0.4 1"/>
      </material>
    </visual>
    <collision>
      <!-- avoid multiple points of contact with the ground -->
      <origin rpy="0 0 0" xyz="0 0 0"/>
      <geometry>
        <sphere radius="0.025"/>
      </geometry>
      <!-- <origin xyz="0 0 0" rpy="0 0 0" />
                <geometry>
                    <mesh filename="../meshes/${name}_FOOT.STL" />
                </geometry> -->
    </collision>
  </link>
  <joint dont_collapse="true" name="LB_FIX" type="fixed">
    <origin rpy="3.14159265358979 0 3.14159265358979" xyz="0 -0.232 -0.018"/>
    <parent link="LB_SHANK"/>
    <child link="LB_FOOT"/>
    <axis xyz="0 0 0"/>
  </joint>
  <transmission name="LB_HAA_tran">
    <type>transmission_interface/SimpleTransmission</type>
    <joint name="LB_HAA">
      <hardwareInterface>hardware_interface/EffortJointInterface</hardwareInterface>
    </joint>
    <actuator name="LB_HAA_motor">
      <hardwareInterface>hardware_interface/EffortJointInterface</hardwareInterface>
      <mechanicalReduction>1</mechanicalReduction>
    </actuator>
  </transmission>
  <transmission name="LB_HFE_tran">
    <type>transmission_interface/SimpleTransmission</type>
    <joint name="LB_HFE">
      <hardwareInterface>hardware_interface/EffortJointInterface</hardwareInterface>
    </joint>
    <actuator name="LB_HFE_motor">
      <hardwareInterface>hardware_interface/EffortJointInterface</hardwareInterface>
      <mechanicalReduction>1</mechanicalReduction>
    </actuator>
  </transmission>
  <transmission name="LB_KFE_tran">
    <type>transmission_interface/SimpleTransmission</type>
    <joint name="LB_KFE">
      <hardwareInterface>hardware_interface/EffortJointInterface</hardwareInterface>
    </joint>
    <actuator name="LB_KFE_motor">
      <hardwareInterface>hardware_interface/EffortJointInterface</hardwareInterface>
      <mechanicalReduction>1</mechanicalReduction>
    </actuator>
  </transmission>
  <!-- foot contacts -->
  <gazebo reference="LB_SHANK">
    <sensor name="LB_foot_contact" type="contact">
      <alwaysOn>true</alwaysOn>
      <update_rate>100</update_rate>
      <plugin filename="libunitreeFootContactPlugin.so" name="contactPlugin"/>
      <contact>
        <collision>LB_SHANK_fixed_joint_lump__LB_FOOT_collision_1</collision>
      </contact>
    </sensor>
  </gazebo>
  <!-- visualization of Foot contacts. -->
  <gazebo reference="LB_FOOT">
    <visual>
      <plugin filename="libunitreeDrawForcePlugin.so" name="drawForcePlugin">
        <topicName>LB_foot_contact</topicName>
      </plugin>
    </visual>
  </gazebo>
  <!-- set friction -->
  <gazebo reference="LB_HIP">
    <mu1>0.2</mu1>
    <mu2>0.2</mu2>
    <self_collide>1</self_collide>
  </gazebo>
  <gazebo reference="LB_THIGH">
    <mu1>0.2</mu1>
    <mu2>0.2</mu2>
    <self_collide>1</self_collide>
  </gazebo>
  <gazebo reference="LB_SHANK">
    <mu1>0.2</mu1>
    <mu2>0.2</mu2>
    <self_collide>1</self_collide>
  </gazebo>
  <gazebo reference="LB_FOOT">
    <mu1>0.6</mu1>
    <mu2>0.6</mu2>
    <self_collide>1</self_collide>
    <!-- soft foot -->
    <!-- <kp value="1000000.0"/>
            <kd value="1.0"/> -->
    <kp value="20.0"/>
    <kd value="10.0"/>
  </gazebo>
</robot>
